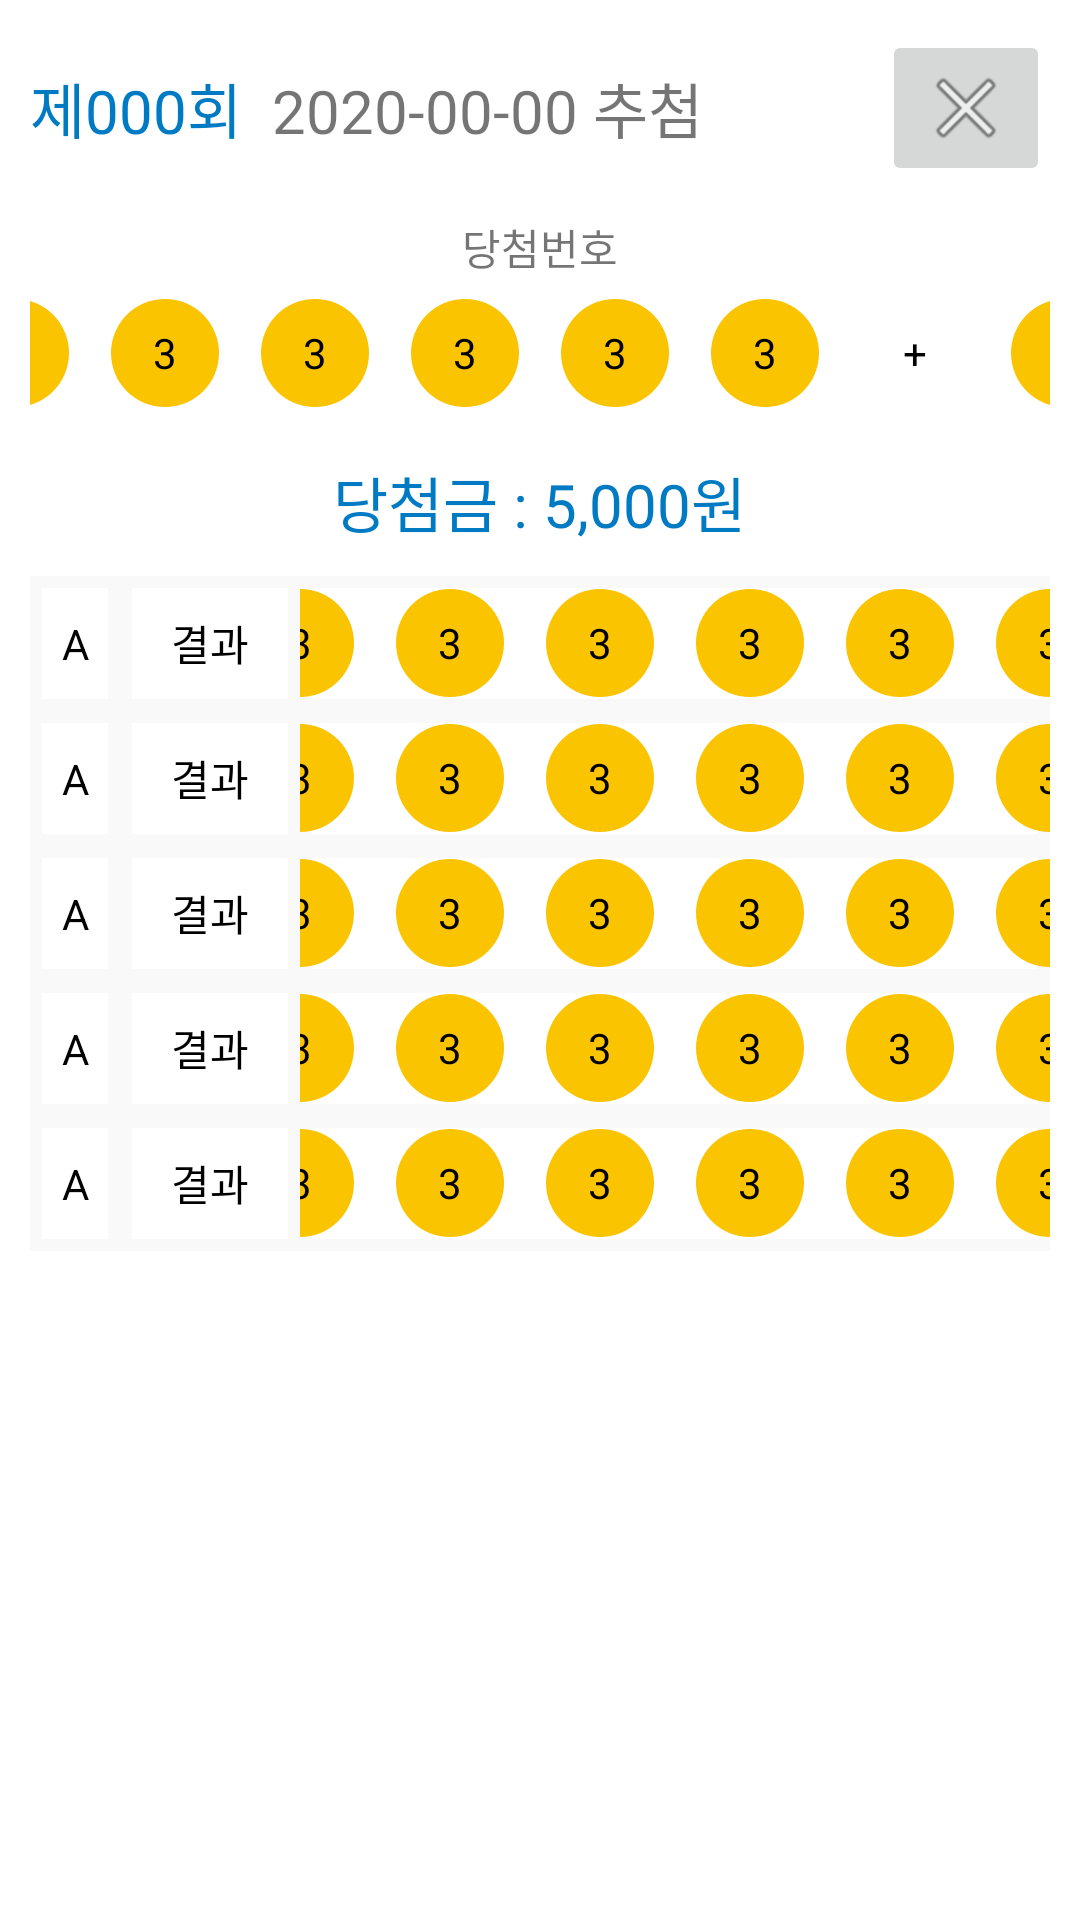

Icon bounding boxes for this 1080 × 1920 phone screenshot, format (x1, y1, x2, y2):
close clear cancel: (894, 48, 1038, 168)
